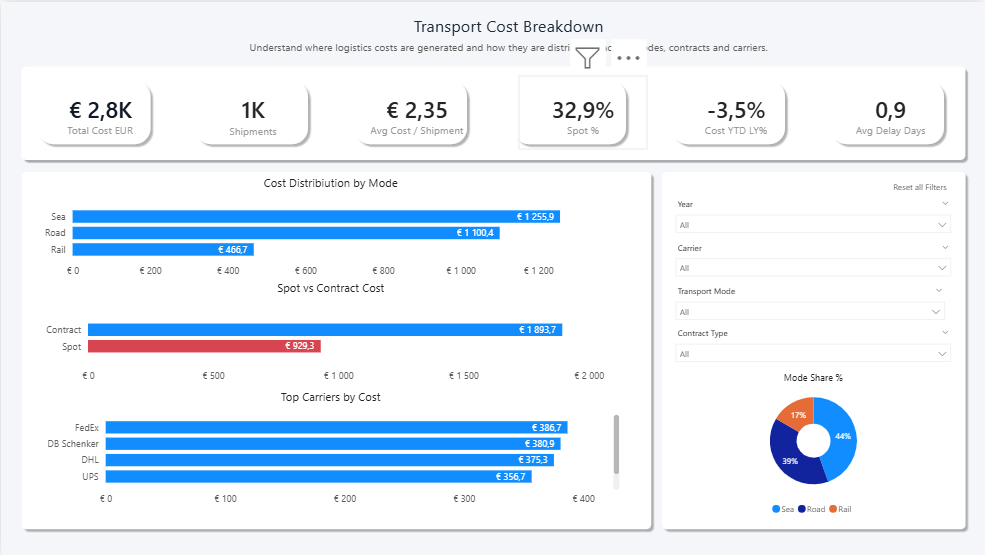

Layout of this report page (visuals, bound fields, positions):
{"tool":"powerbi","page":{"name":"Cost Analysis","canvas":[1280,720],"ordinal":1},"visuals":[{"type":"shape","box":[0,72,1280,144],"z":2000},{"type":"shape","box":[0,208,872,488],"z":3000},{"type":"textbox","title":"Transport Cost Breakdown","box":[312,16,696,56],"z":4000},{"type":"shape","box":[246.4,96,160,96],"z":5000},{"type":"shape","box":[452.8,96,160,96],"z":6000},{"type":"shape","box":[659.2,96,160,96],"z":7000},{"type":"shape","box":[865.6,96,160,96],"z":8000},{"type":"shape","box":[1072,96,160,96],"z":9000},{"type":"shape","box":[40,96,160,96],"z":10000},{"type":"cardVisual","fields":{"Data":["Measures#.Total Cost EUR"]},"box":[40,96,176,96],"z":11000},{"type":"cardVisual","fields":{"Data":["Measures#.Shipments"]},"box":[248,96,160,96],"z":12000},{"type":"cardVisual","fields":{"Data":["Measures#.Avg Cost per Shipment"]},"box":[440,96,200,96],"z":13000},{"type":"cardVisual","fields":{"Data":["Measures#.Spot %"]},"box":[672,96,168,96],"z":14000},{"type":"cardVisual","fields":{"Data":["Measures#.Cost YTD LY%"]},"box":[872,96,168,96],"z":15000},{"type":"cardVisual","fields":{"Data":["Measures#.Avg Delay Days"]},"box":[1072,96,168,96],"z":16000},{"type":"shape","box":[832,208,448,488],"z":17000},{"type":"slicer","fields":{"Values":["dim_Calendar.Year"]},"box":[872,256,368,48],"z":18000},{"type":"slicer","fields":{"Values":["dim_Carriers.carrier"]},"box":[872,312,368,48],"z":19000},{"type":"slicer","fields":{"Values":["fact_Shipments.mode"]},"box":[872,368,360,48],"z":20000},{"type":"slicer","fields":{"Values":["fact_Shipments.contract_type"]},"box":[872,424,368,48],"z":21000},{"type":"clusteredBarChart","title":"Top Carriers by Cost","fields":{"Y":["Measures#.Total Cost EUR"],"Category":["dim_Carriers.carrier"]},"box":[48,504,760,160],"z":22000},{"type":"clusteredBarChart","title":"Cost Distribiution by Mode","fields":{"Y":["Measures#.Total Cost EUR"],"Category":["fact_Shipments.mode"]},"box":[48,224,760,144],"z":23000},{"type":"clusteredBarChart","title":"Spot vs Contract Cost","fields":{"Y":["Measures#.Total Cost EUR"],"Category":["fact_Shipments.contract_type"]},"box":[48,360,760,144],"z":24000},{"type":"donutChart","title":"Mode Share %","fields":{"Y":["Measures#.Total Cost EUR"],"Category":["fact_Shipments.mode"]},"box":[928,480,256,192],"z":25000},{"type":"actionButton","title":"Reset Filters","box":[1152,224,80,32],"z":26000}]}

Visuals, with their boxes in screenshot pixels (x1, y1, x2, y2), scaled from the page's 1280x720 canvas onto the 985x555 screenshot:
shape: <region>0, 56, 984, 166</region>
shape: <region>0, 160, 671, 536</region>
"Transport Cost Breakdown" textbox: <region>240, 12, 776, 56</region>
shape: <region>190, 74, 313, 148</region>
shape: <region>348, 74, 472, 148</region>
shape: <region>507, 74, 630, 148</region>
shape: <region>666, 74, 789, 148</region>
shape: <region>825, 74, 948, 148</region>
shape: <region>31, 74, 154, 148</region>
cardVisual - Measures#.Total Cost EUR: <region>31, 74, 166, 148</region>
cardVisual - Measures#.Shipments: <region>191, 74, 314, 148</region>
cardVisual - Measures#.Avg Cost per Shipment: <region>339, 74, 492, 148</region>
cardVisual - Measures#.Spot %: <region>517, 74, 646, 148</region>
cardVisual - Measures#.Cost YTD LY%: <region>671, 74, 800, 148</region>
cardVisual - Measures#.Avg Delay Days: <region>825, 74, 954, 148</region>
shape: <region>640, 160, 984, 536</region>
slicer - dim_Calendar.Year: <region>671, 197, 954, 234</region>
slicer - dim_Carriers.carrier: <region>671, 240, 954, 278</region>
slicer - fact_Shipments.mode: <region>671, 284, 948, 321</region>
slicer - fact_Shipments.contract_type: <region>671, 327, 954, 364</region>
"Top Carriers by Cost" clusteredBarChart: <region>37, 388, 622, 512</region>
"Cost Distribiution by Mode" clusteredBarChart: <region>37, 173, 622, 284</region>
"Spot vs Contract Cost" clusteredBarChart: <region>37, 278, 622, 388</region>
"Mode Share %" donutChart: <region>714, 370, 911, 518</region>
"Reset Filters" actionButton: <region>886, 173, 948, 197</region>
